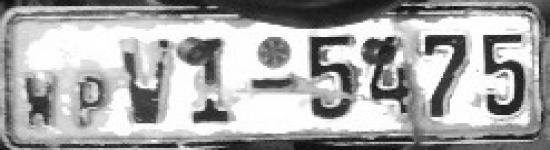-: (249, 77, 297, 97)
4: (365, 31, 418, 122)
5: (476, 27, 532, 126), (304, 33, 358, 125)
7: (418, 32, 472, 123)
I: (191, 34, 236, 127)
P: (73, 66, 112, 134)
V: (117, 32, 172, 130)
W: (20, 63, 63, 133)
